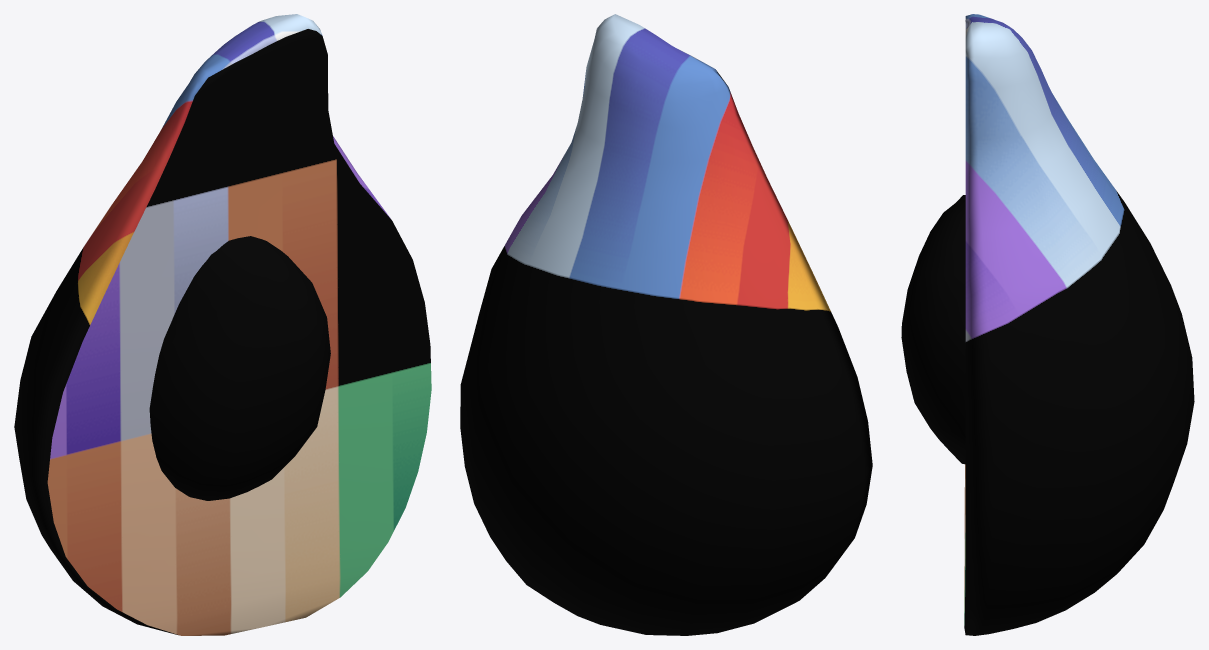
The model's file is plant.glb.
The picture shows the model from 3 angles, left to right: view 1: azimuth 30°, elevation 25°; view 2: azimuth 150°, elevation 25°; view 3: azimuth 270°, elevation 25°; orthographic projection. The views are drawn at different scales.
Visible parts, largest first — view 1: Avocado; view 2: Avocado; view 3: Avocado.
Part boxes in pixels (x1,y1,x2,y2): Avocado: [14, 14, 431, 635]; Avocado: [460, 14, 872, 635]; Avocado: [901, 14, 1194, 635].
Bounding box in the file's own units: 0.0426 × 0.0629 × 0.0276.
Materials: 1 (1 with a texture image).
